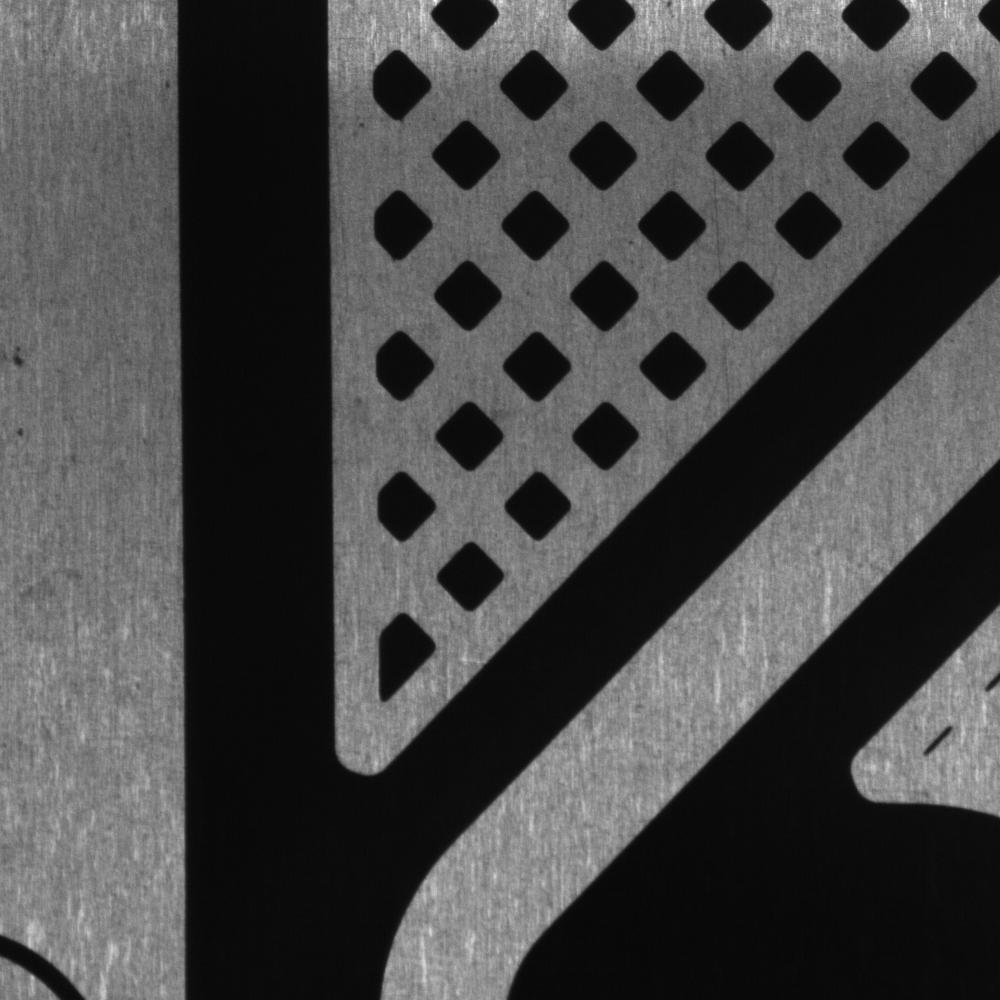Etching: (2, 333, 41, 390)
Pinhole: (8, 410, 39, 446)
Scar: (693, 328, 732, 438), (707, 169, 733, 278), (703, 75, 719, 144)
